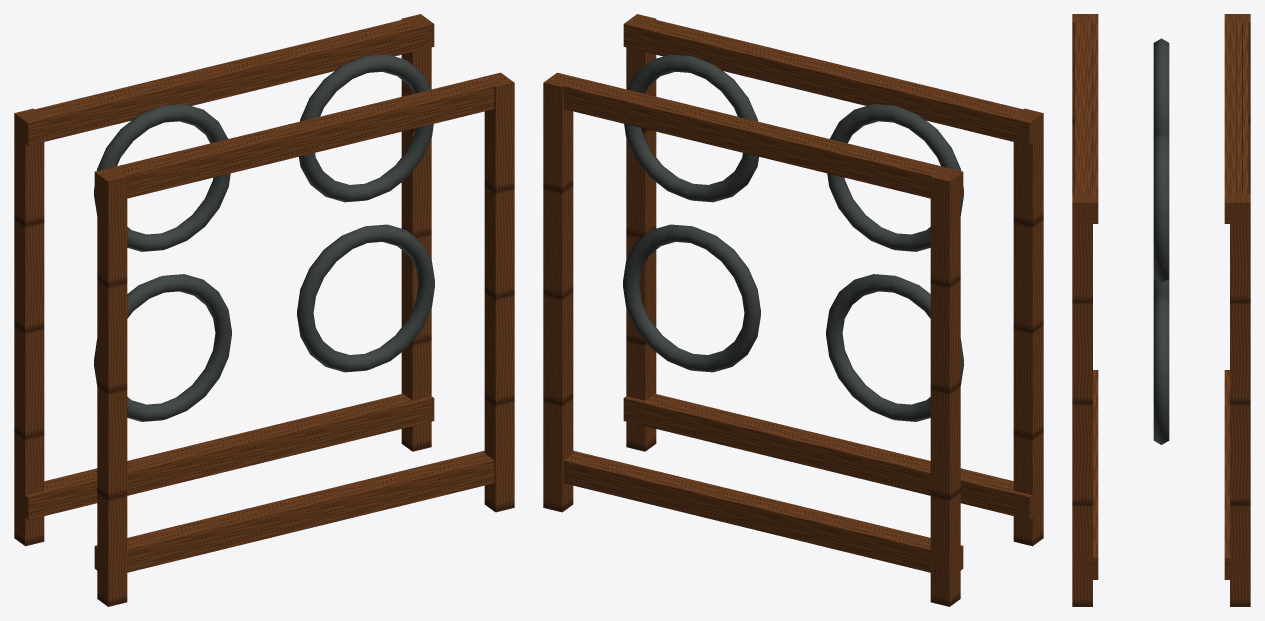
File: roadside-survival-stops-tyre-storage-rack-7850e809__23566.glb
3 renders of one model, left to right at view 1: azimuth 30°, elevation 25°; view 2: azimuth 150°, elevation 25°; view 3: azimuth 270°, elevation 25°, orthographic. The views are drawn at different scales.
Visible parts, largest first — view 1: tyre-storage-rack; view 2: tyre-storage-rack; view 3: tyre-storage-rack.
Boxes of the visible parts, bbox=[...] form: tyre-storage-rack: bbox=[14, 14, 514, 606]; tyre-storage-rack: bbox=[543, 14, 1043, 606]; tyre-storage-rack: bbox=[1072, 14, 1250, 606].
Size of the model in its own units: 1.5 by 1.56 by 0.5999.
2 materials, 1 textured.
